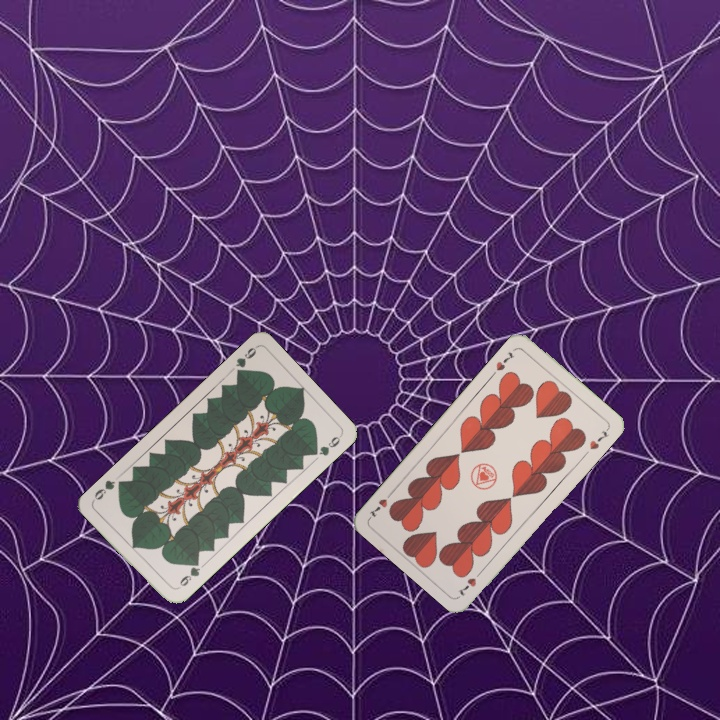G9: (173, 557, 203, 592), (231, 342, 259, 379)
H7: (454, 566, 486, 599), (492, 347, 517, 374)
